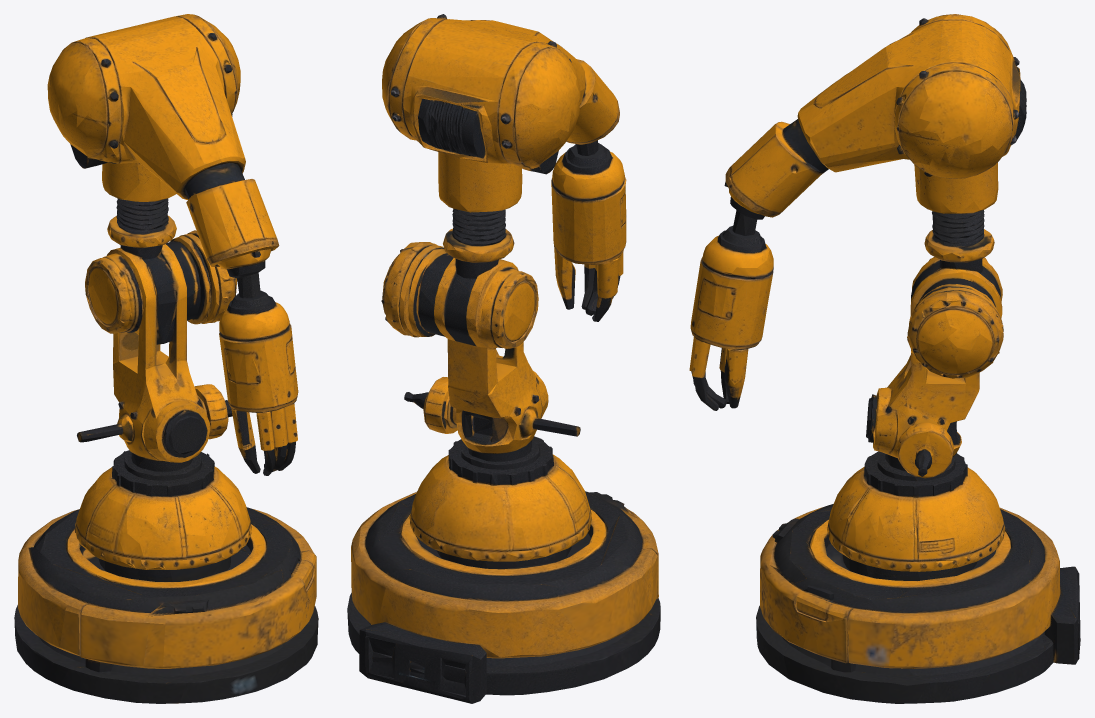
File: robot_arm.glb
3 views of the same model, side by side, from view 1: azimuth 30°, elevation 25°; view 2: azimuth 150°, elevation 25°; view 3: azimuth 270°, elevation 25° (orthographic). The views are drawn at different scales.
Visible parts, largest first — view 1: Mesh_0; view 2: Mesh_0; view 3: Mesh_0.
Part boxes in pixels (box(x1,y1,x2,y2)): Mesh_0: box(14, 14, 318, 703); Mesh_0: box(347, 14, 660, 703); Mesh_0: box(689, 14, 1080, 703).
Size of the model in its own units: 0.885 by 1.9 by 1.12.
1 material, 1 textured.
